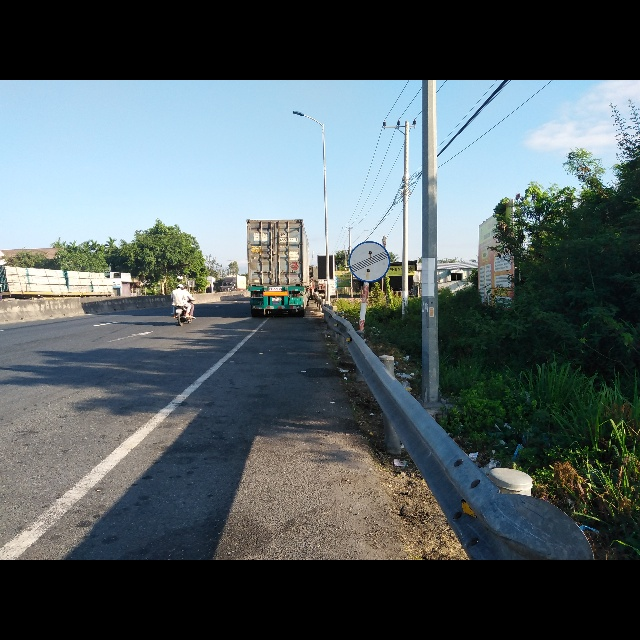Hết tất cả các lệnh cấm: (349, 241, 392, 283)
